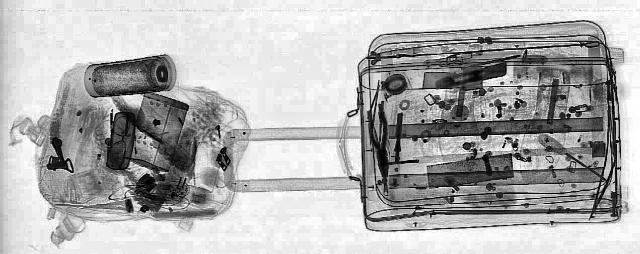Pliers: (362, 103, 396, 177)
